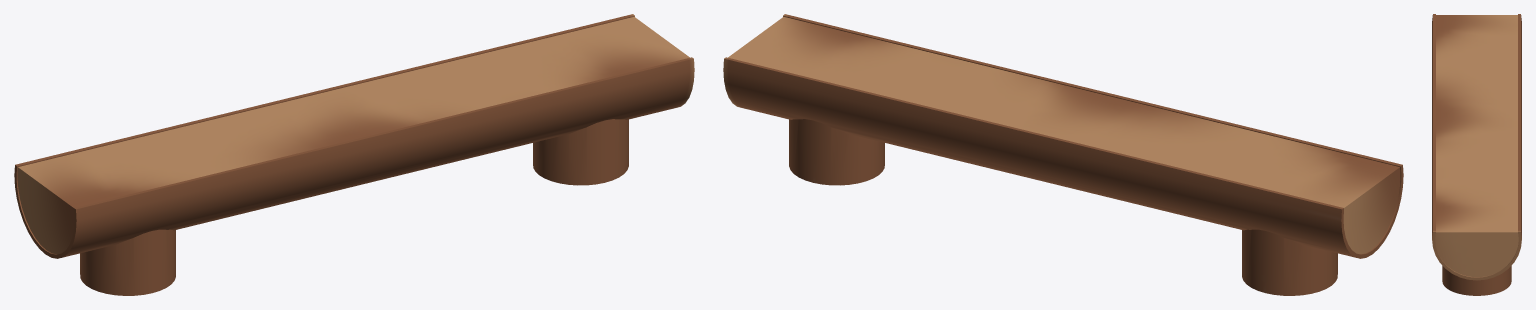
File: benchwood.fbx
The picture shows the model from 3 angles, left to right: view 1: azimuth 30°, elevation 25°; view 2: azimuth 150°, elevation 25°; view 3: azimuth 270°, elevation 25°; orthographic projection. The views are drawn at different scales.
Visible parts, largest first — view 1: Cylinder.051; view 2: Cylinder.051; view 3: Cylinder.051.
Part boxes in pixels (bbox=[...]): Cylinder.051: bbox=[14, 14, 694, 295]; Cylinder.051: bbox=[723, 14, 1403, 295]; Cylinder.051: bbox=[1432, 14, 1521, 295].
Size of the model in its own units: 224 by 37.66 by 39.02.
Materials: 1 (1 with a texture image).
